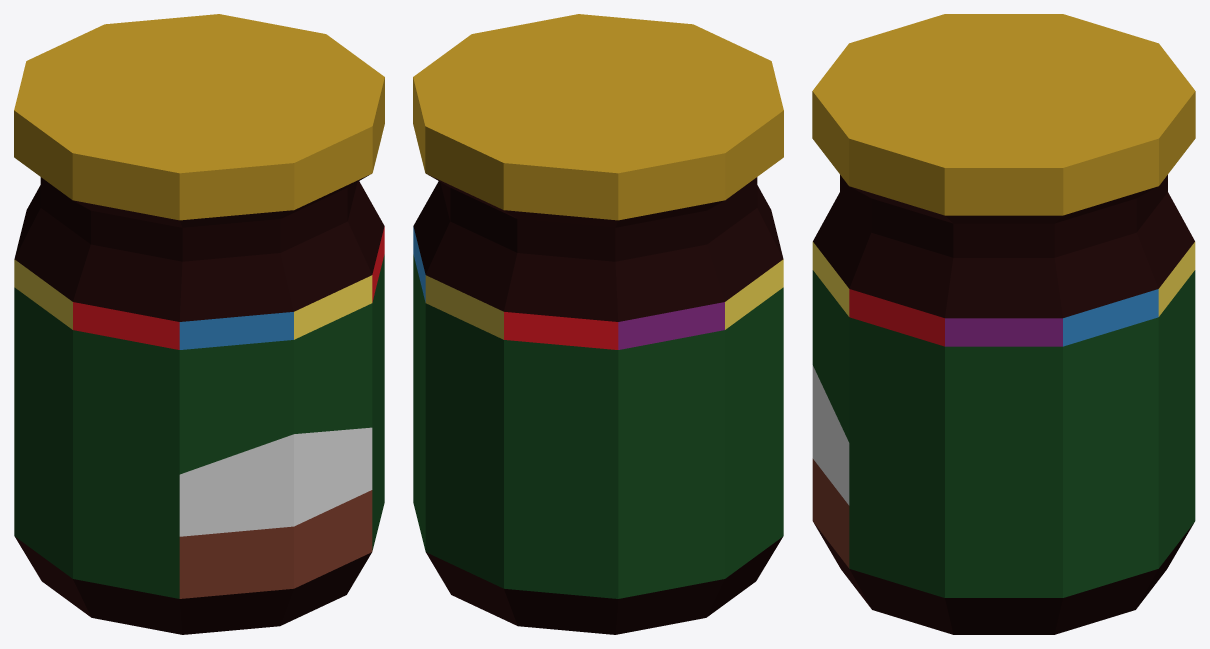
File: Bagoong.fbx
3 views of the same model, side by side, from view 1: azimuth 30°, elevation 25°; view 2: azimuth 150°, elevation 25°; view 3: azimuth 270°, elevation 25° (orthographic).
Visible parts, largest first — view 1: Bagoong; view 2: Bagoong; view 3: Bagoong.
Boxes of the visible parts, bbox=[...] form: Bagoong: bbox=[14, 14, 384, 634]; Bagoong: bbox=[413, 14, 783, 634]; Bagoong: bbox=[812, 14, 1195, 634].
Size of the model in its own units: 31.46 by 45.59 by 33.08.
